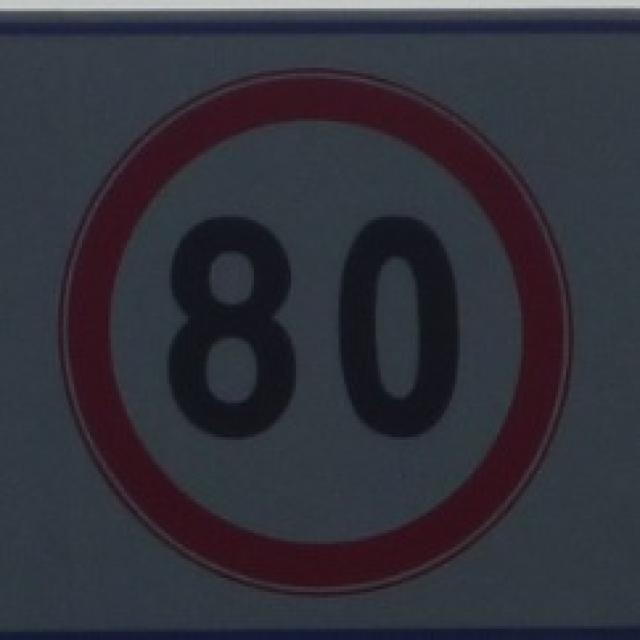Speed Limit -80-: (163, 208, 462, 440)
